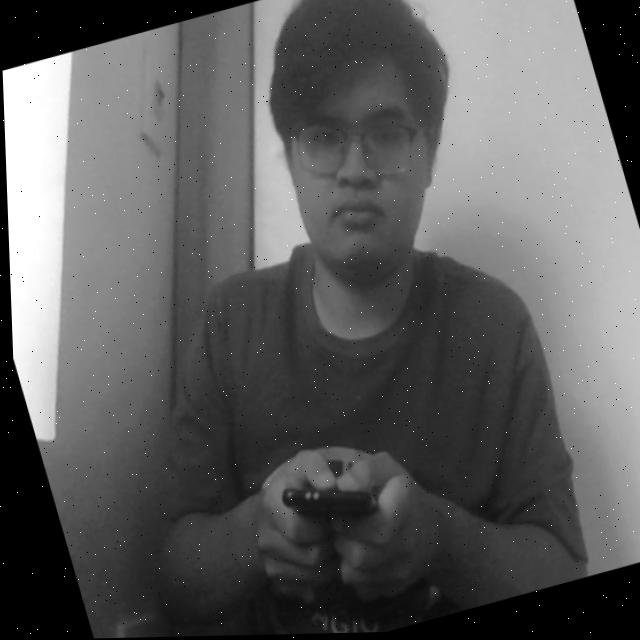phone: (236, 415, 432, 588)
